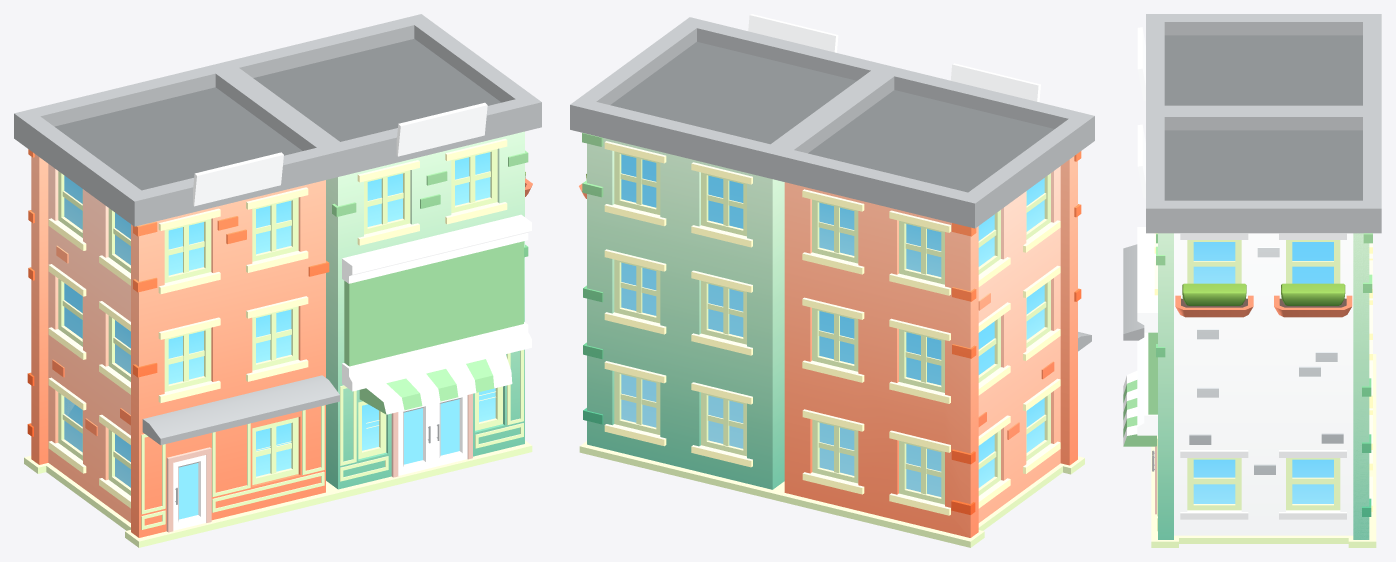
Rendered from Building_Living_30.glb.
3 views of the same model, side by side, from view 1: azimuth 30°, elevation 25°; view 2: azimuth 150°, elevation 25°; view 3: azimuth 270°, elevation 25° (orthographic). The views are drawn at different scales.
Visible parts, largest first — view 1: Building_Living_30; view 2: Building_Living_30; view 3: Building_Living_30.
Boxes of the visible parts, x1,y1,x2,y2 form: Building_Living_30: (14,14,541,547); Building_Living_30: (570,14,1094,547); Building_Living_30: (1123,14,1381,547).
Size of the model in its own units: 13.74 by 11.47 by 7.52.
1 material, 1 textured.
